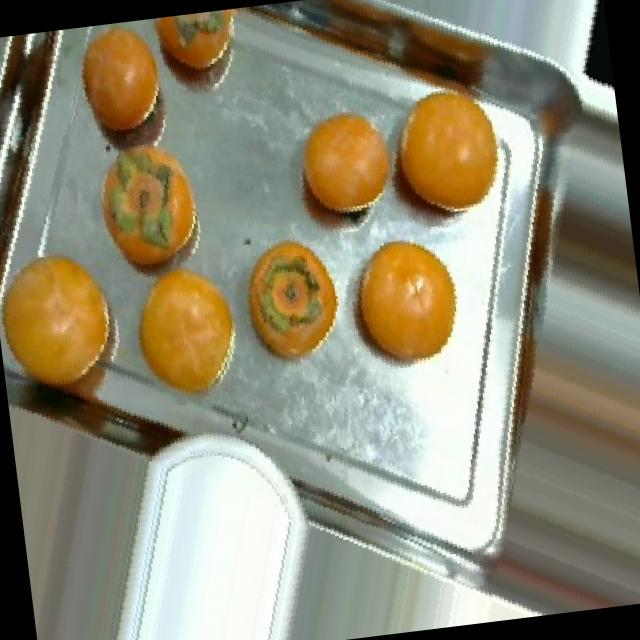Fruit: (360, 58, 524, 250), (323, 212, 484, 396), (0, 216, 141, 425), (106, 240, 262, 426), (74, 122, 224, 305), (220, 218, 358, 384), (49, 16, 190, 174), (277, 89, 413, 238), (142, 6, 265, 116), (551, 0, 617, 117)
